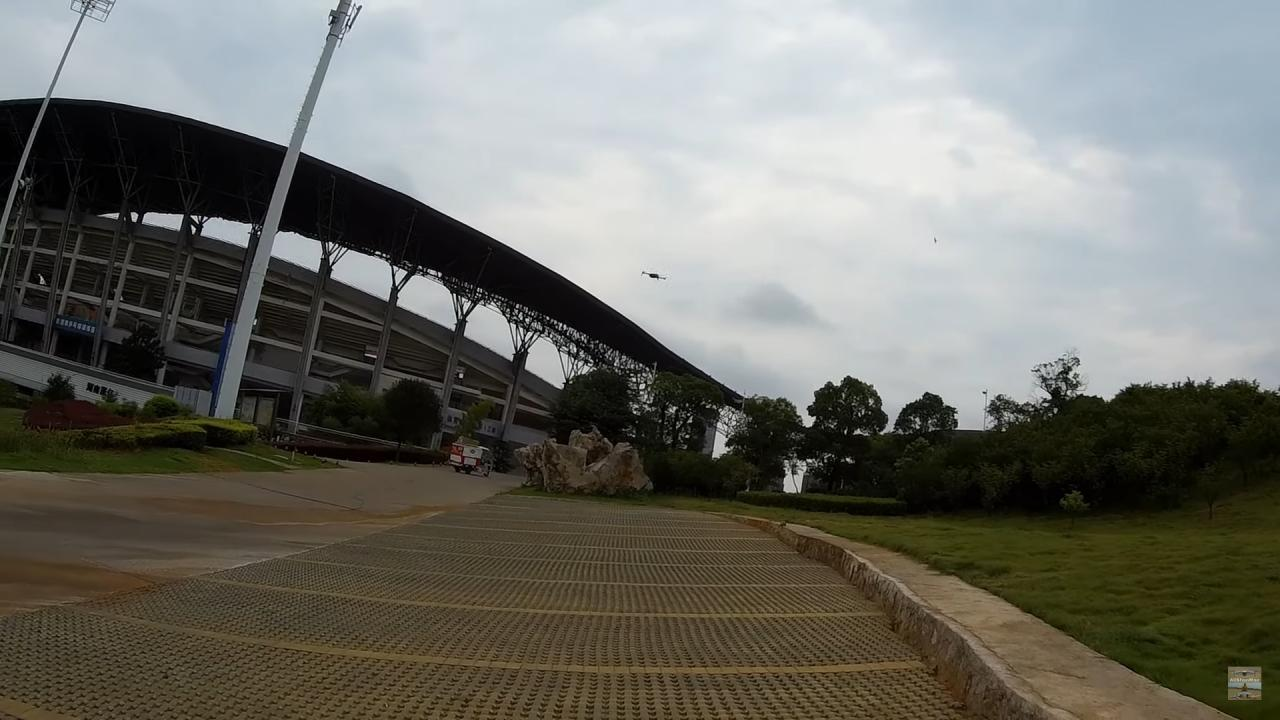Drone: (633, 265, 673, 288)
